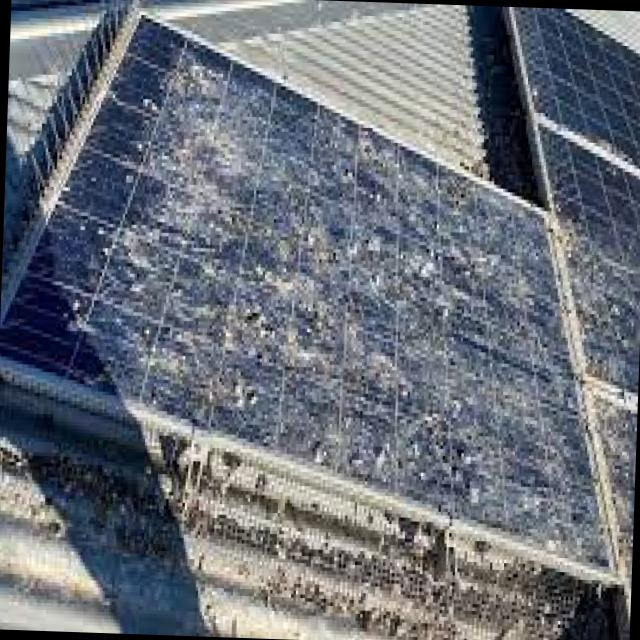faulty: (0, 7, 640, 604)
